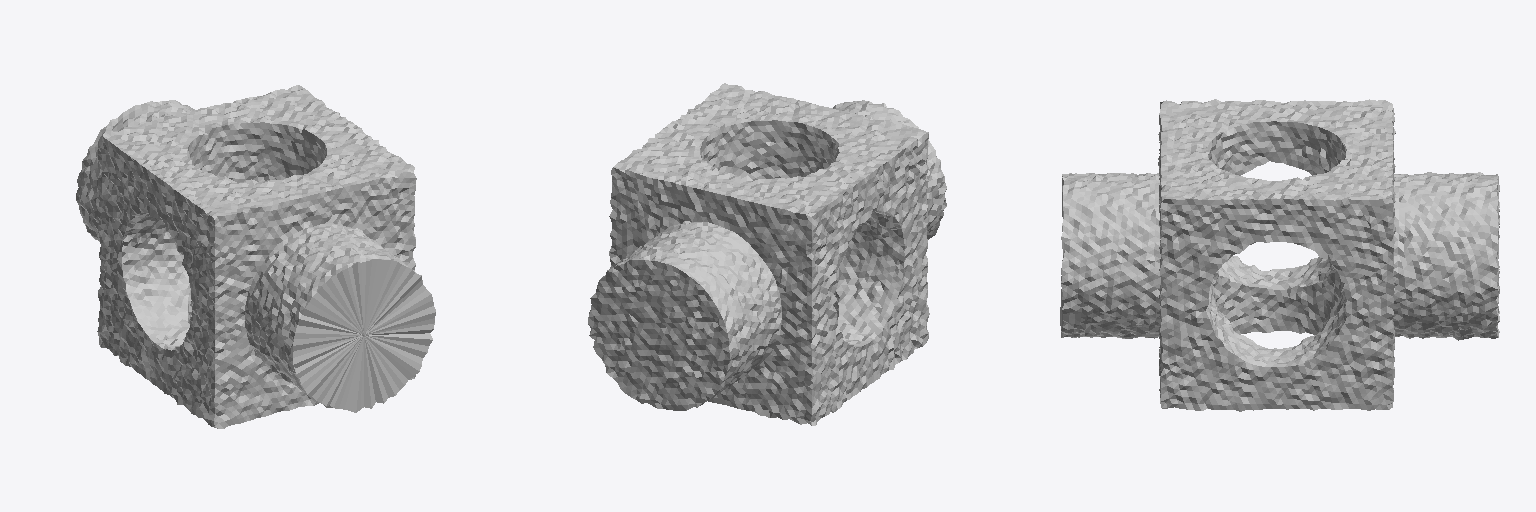
The model's file is block_bad_shaped3.obj.
3 views of the same model, side by side, from view 1: azimuth 30°, elevation 25°; view 2: azimuth 150°, elevation 25°; view 3: azimuth 270°, elevation 25° (orthographic).
Visible parts, largest first — view 1: block; view 2: block; view 3: block.
Boxes of the visible parts, box(x1,y1,x2,y2) form: block: box(76, 85, 435, 428); block: box(588, 83, 946, 425); block: box(1060, 99, 1499, 411).
Size of the model in its own units: 20.66 by 20.58 by 38.03.